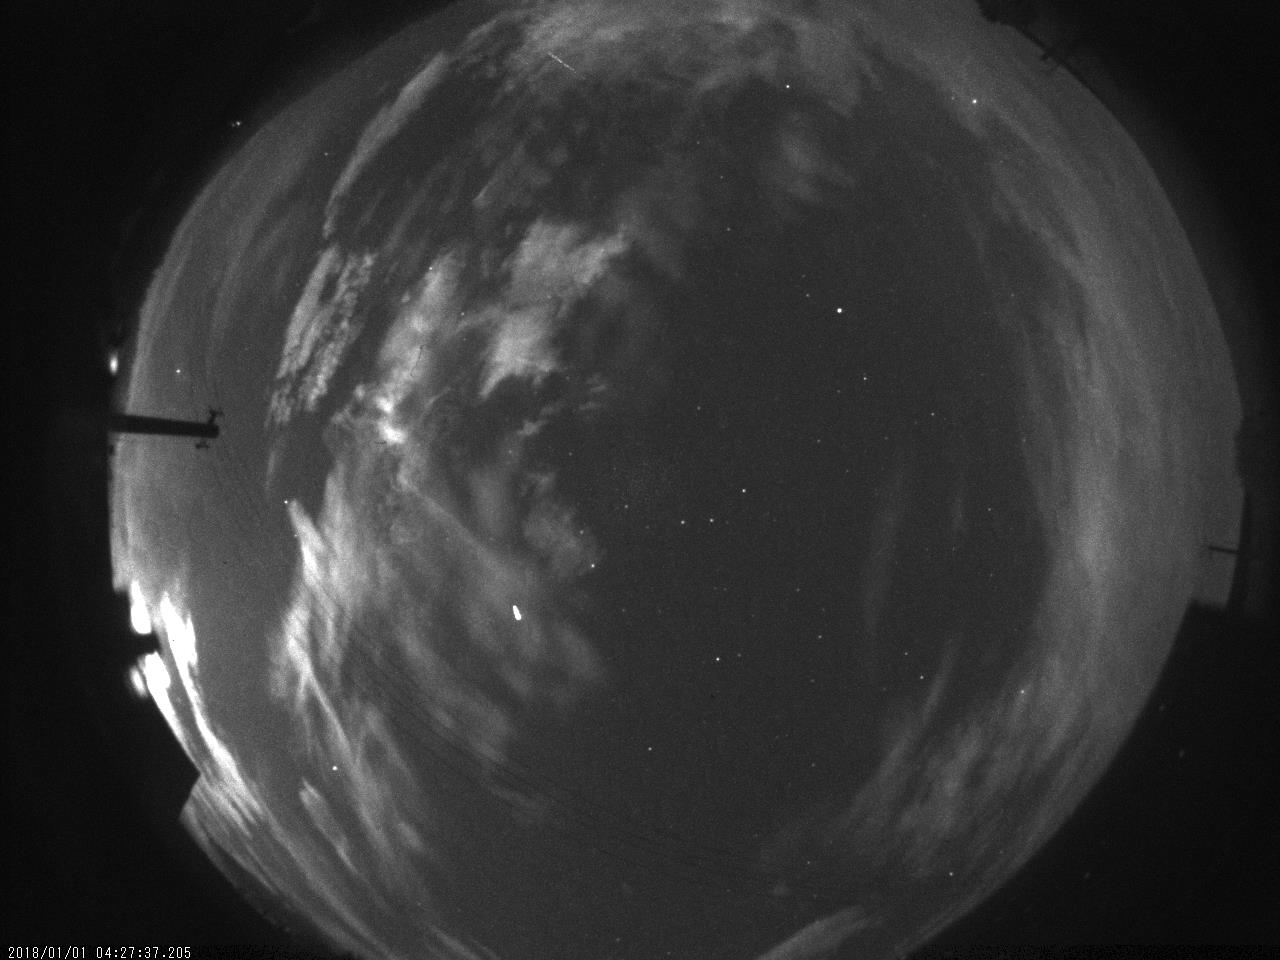meteor: (540, 47, 590, 84)
